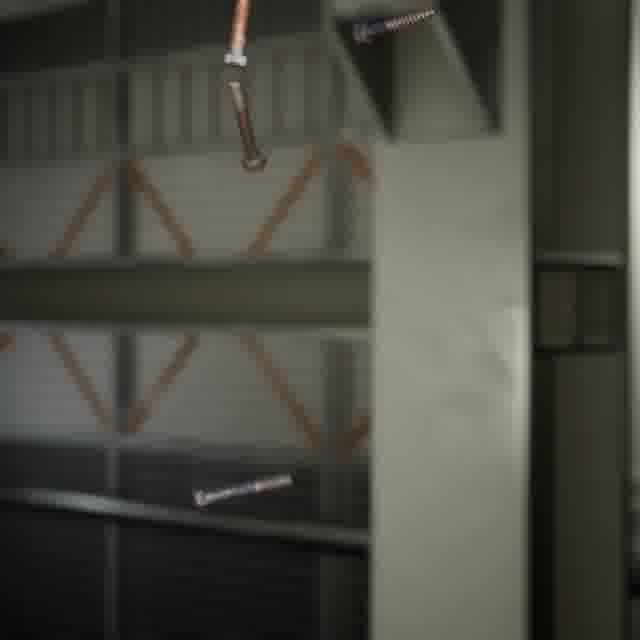bolt: (188, 468, 296, 518), (223, 73, 271, 176), (349, 5, 441, 49), (218, 0, 256, 72)
